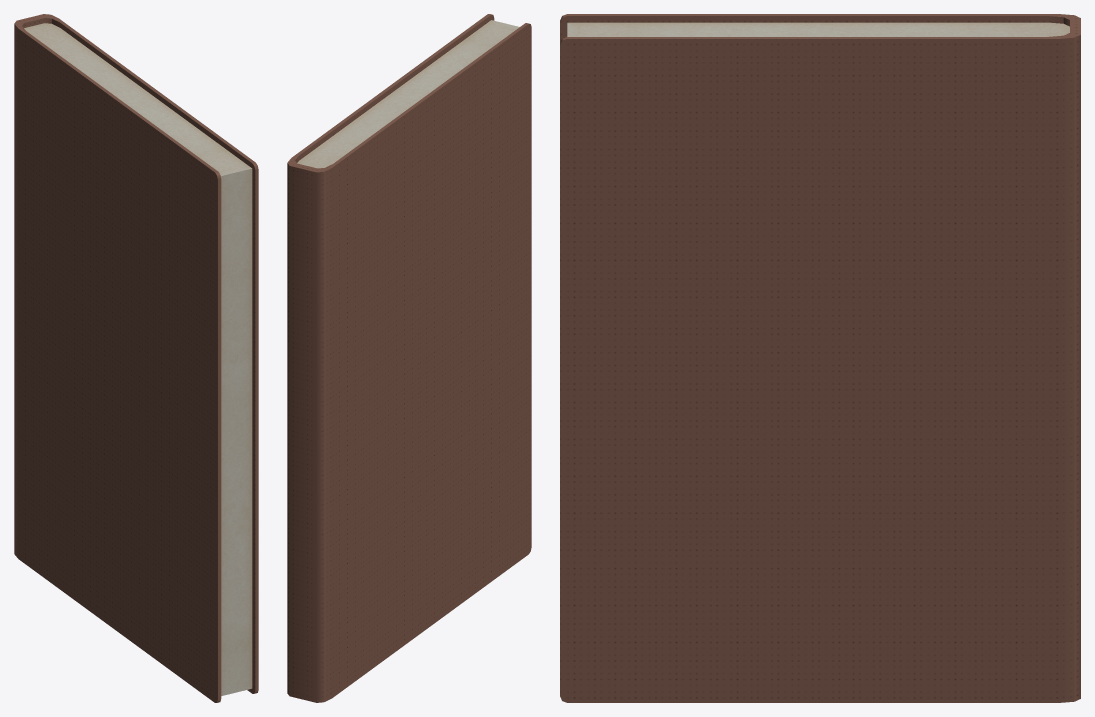
The model's file is fbx_Livro_2.fbx.
3 renders of one model, left to right at view 1: azimuth 30°, elevation 25°; view 2: azimuth 150°, elevation 25°; view 3: azimuth 270°, elevation 25°, orthographic. The views are drawn at different scales.
Visible parts, largest first — view 1: pCube30; view 2: pCube30; view 3: pCube30.
Boxes of the visible parts, left/top/right/bottom form: pCube30: left=14, top=14, right=258, bottom=702; pCube30: left=287, top=14, right=531, bottom=702; pCube30: left=560, top=14, right=1080, bottom=702.
Bounding box in the file's own units: 0.0164 × 0.204 × 0.145.
1 material, 1 textured.
